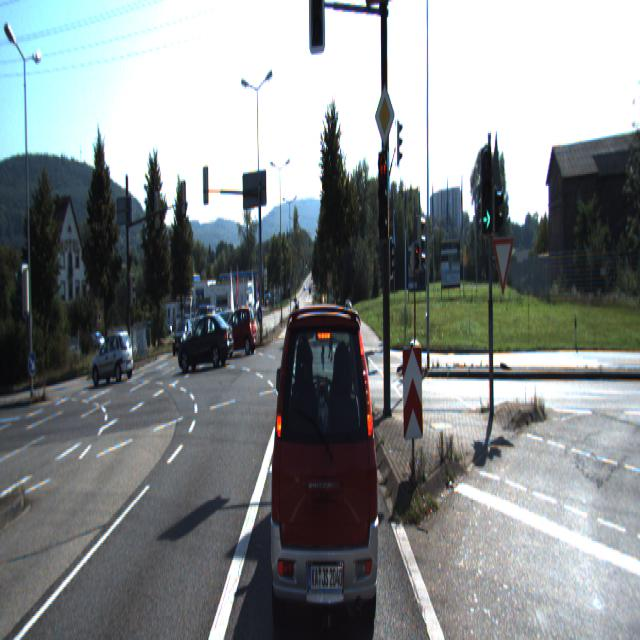Car: (267, 284, 382, 638), (178, 315, 235, 373), (91, 332, 134, 388), (220, 305, 257, 359), (194, 316, 216, 351), (172, 321, 192, 355), (220, 310, 239, 344)
